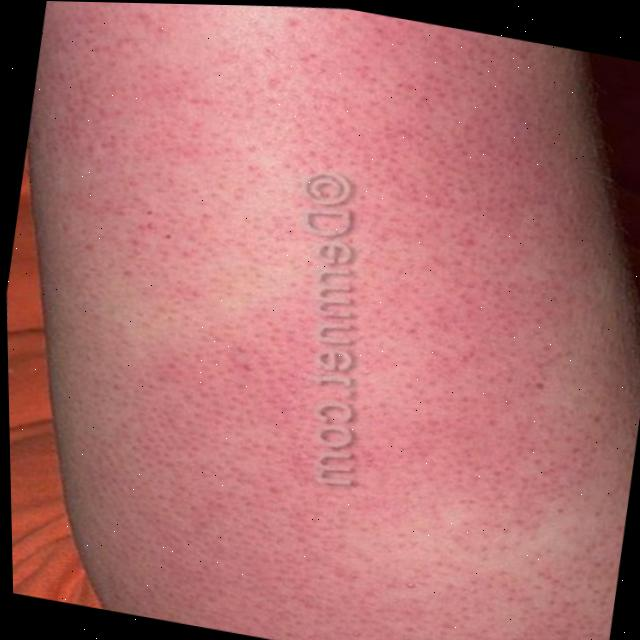Eczema: (12, 0, 640, 640)
